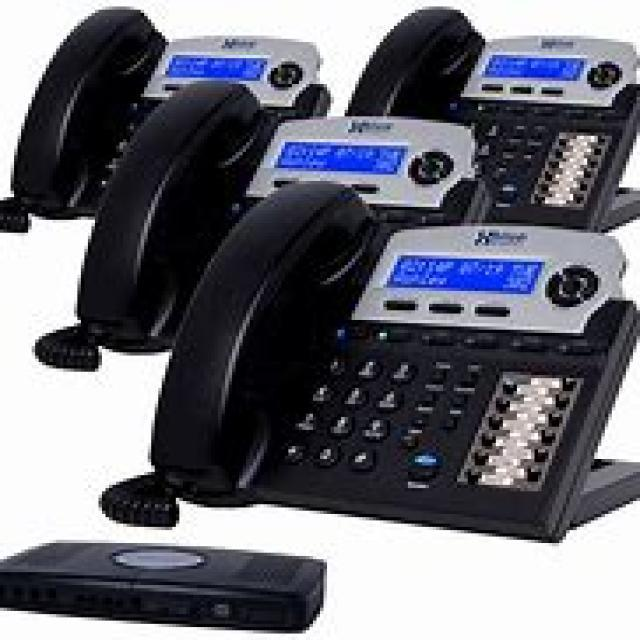phone: (0, 528, 310, 628)
